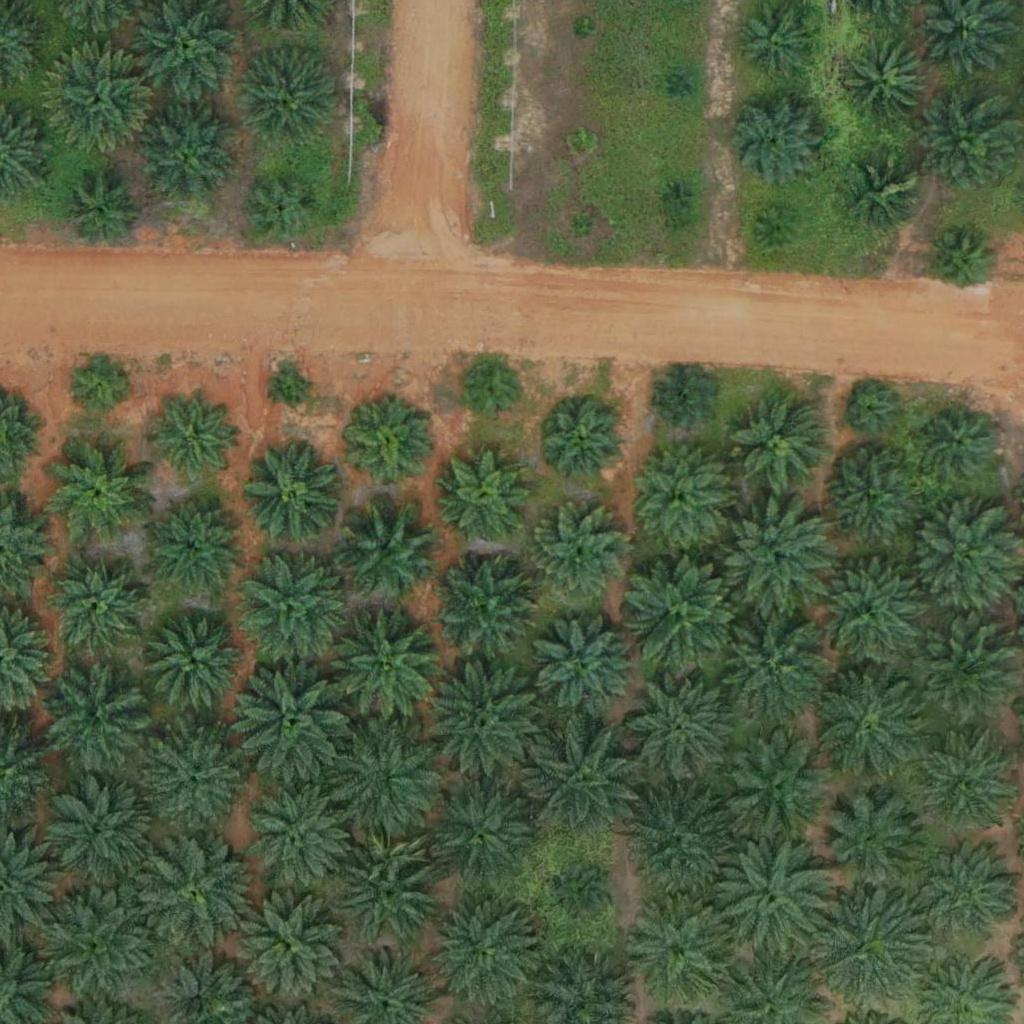Kelapa_Sawit: (227, 662, 352, 788), (320, 719, 445, 845), (416, 661, 541, 787), (521, 720, 646, 846), (622, 551, 747, 677), (618, 780, 743, 906), (705, 600, 830, 726), (715, 831, 840, 957), (810, 662, 935, 788), (805, 887, 930, 1013), (130, 832, 255, 957), (806, 554, 931, 679), (37, 881, 162, 1006), (330, 610, 443, 724), (430, 551, 543, 665), (422, 778, 535, 891), (427, 895, 540, 1008), (719, 500, 832, 613), (720, 732, 833, 845), (815, 788, 928, 901), (627, 895, 739, 1009), (43, 49, 155, 162), (719, 85, 831, 198), (236, 545, 348, 658), (239, 781, 351, 894), (329, 830, 441, 943), (530, 612, 642, 725), (621, 669, 733, 782), (908, 503, 1020, 616), (909, 615, 1021, 728), (920, 94, 1020, 195), (137, 106, 237, 207), (51, 443, 151, 544), (46, 558, 146, 659), (47, 672, 147, 773), (51, 776, 151, 877), (143, 495, 243, 596), (145, 611, 245, 712), (142, 727, 242, 828), (239, 899, 339, 1000), (526, 505, 626, 606), (630, 446, 730, 547), (730, 394, 830, 495), (819, 448, 919, 549), (240, 48, 340, 148), (243, 440, 343, 540), (338, 498, 438, 598), (843, 40, 931, 128), (148, 395, 236, 483), (441, 450, 529, 538), (540, 399, 628, 487), (921, 738, 1009, 826), (347, 404, 434, 492), (246, 170, 321, 246), (850, 158, 925, 233), (64, 176, 139, 251), (922, 407, 997, 482), (929, 231, 992, 294), (551, 866, 614, 929), (652, 369, 715, 432), (67, 350, 129, 413), (462, 362, 524, 425), (847, 386, 897, 436), (759, 207, 797, 245), (274, 370, 311, 408), (571, 18, 596, 43), (567, 130, 592, 155), (570, 214, 595, 239), (670, 72, 695, 97), (663, 182, 688, 207)
